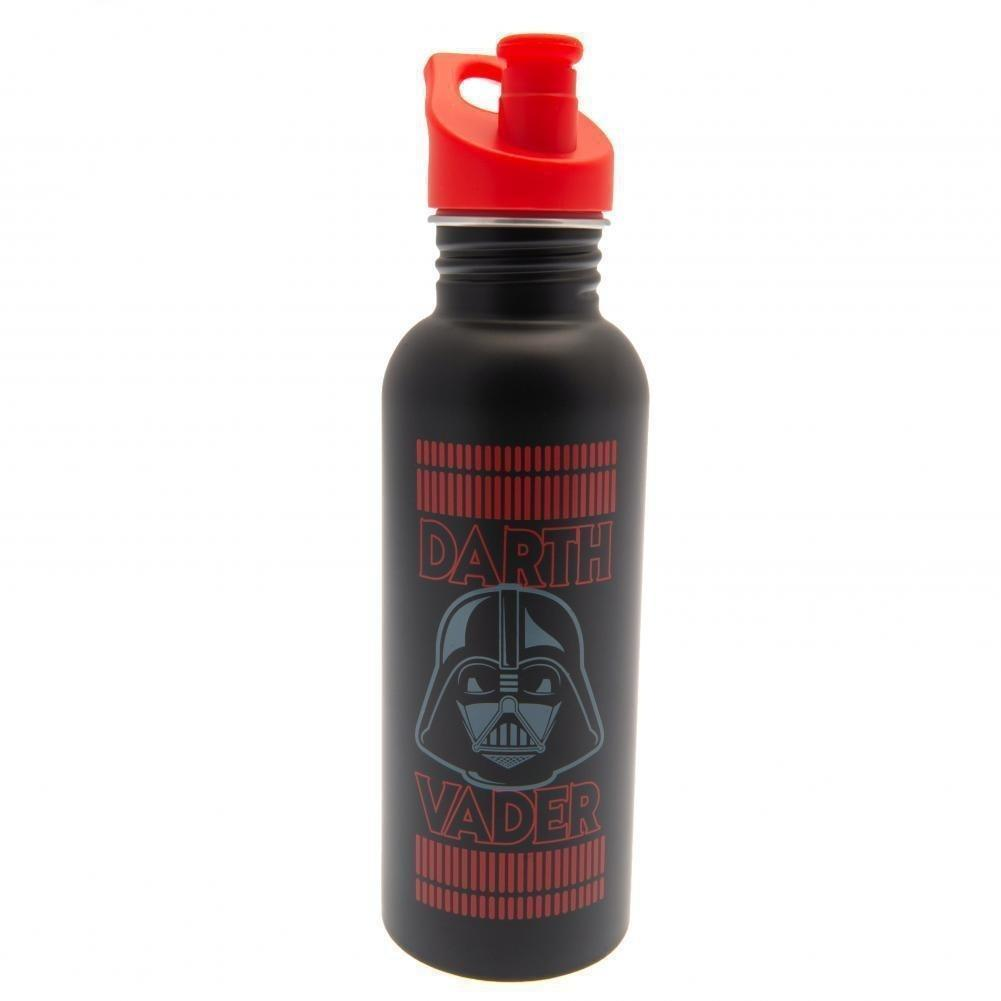gym bottle: (375, 21, 655, 994)
